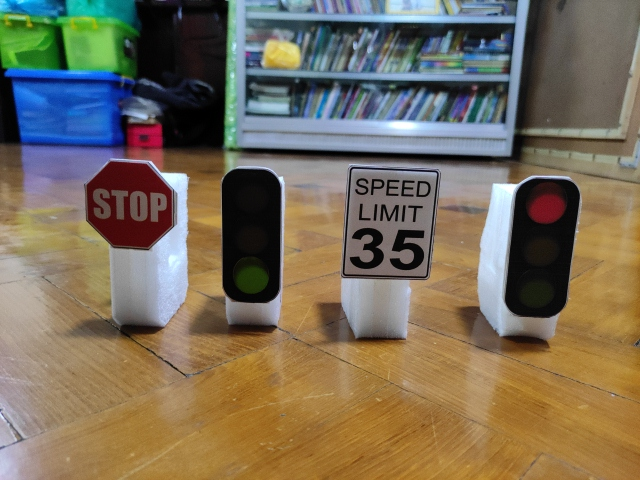Green Traffic Light: (221, 166, 284, 303)
Red Traffic Light: (503, 174, 582, 320)
Speed Limit 35: (342, 164, 441, 282)
Stop Sign: (82, 156, 179, 252)
